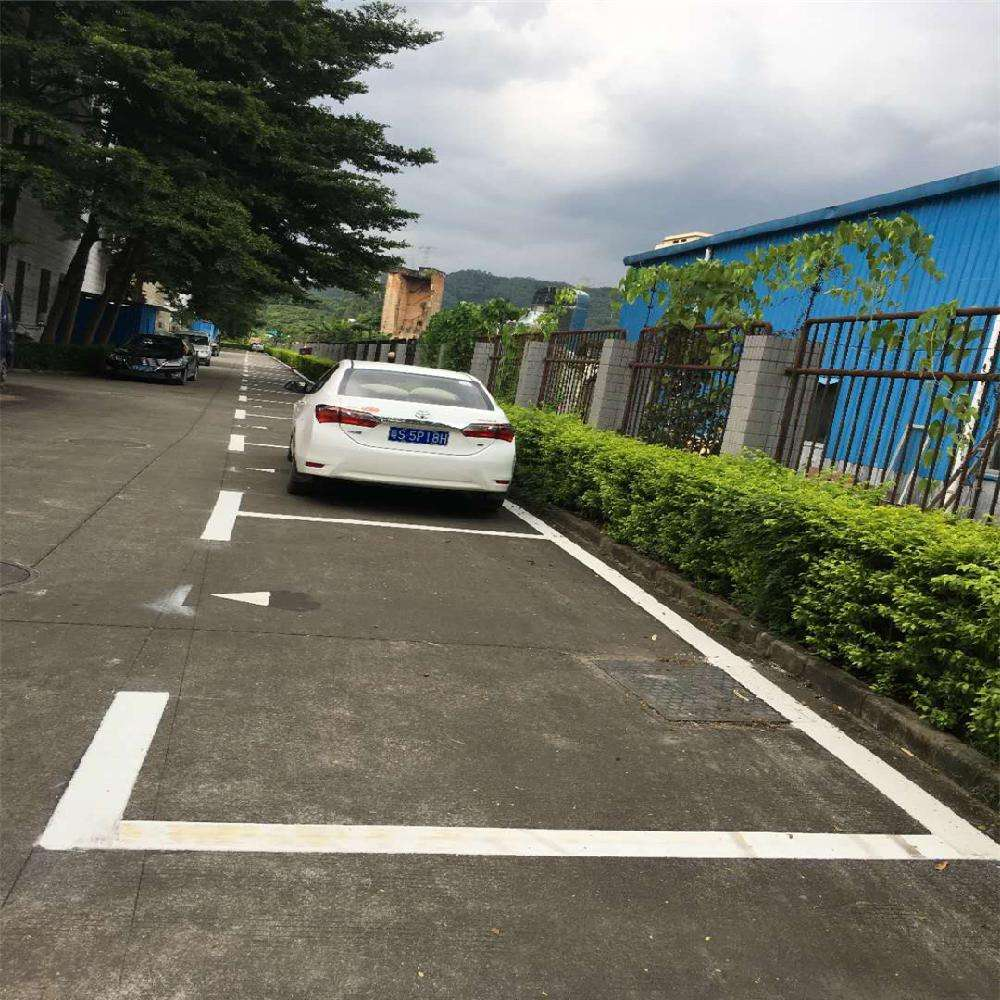slot_nocar: (21, 487, 1000, 900), (238, 337, 318, 399), (230, 383, 350, 423)
